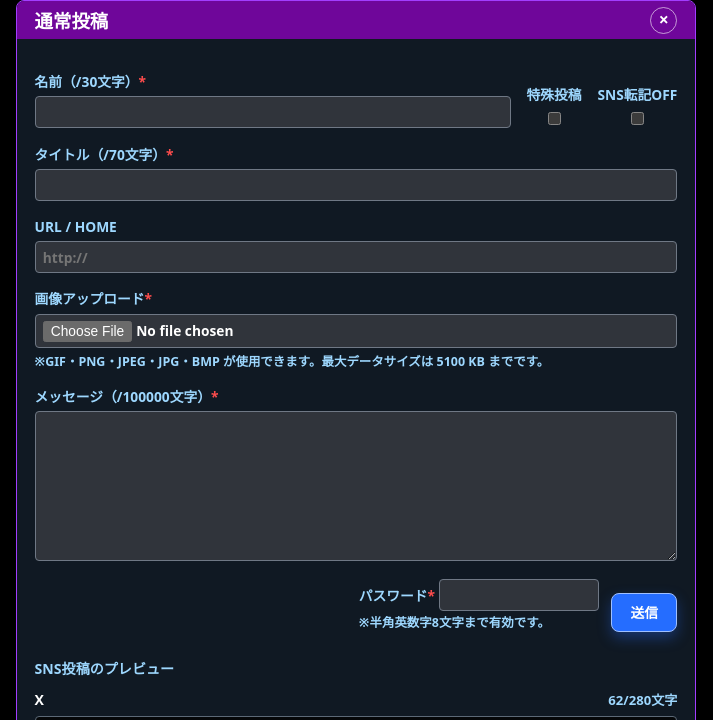
PostFormPage › does not change frame styling when SNS transfer is off
Click the checkbox labelled "SNS転記OFF": point(638, 119) [632,112,644,125]
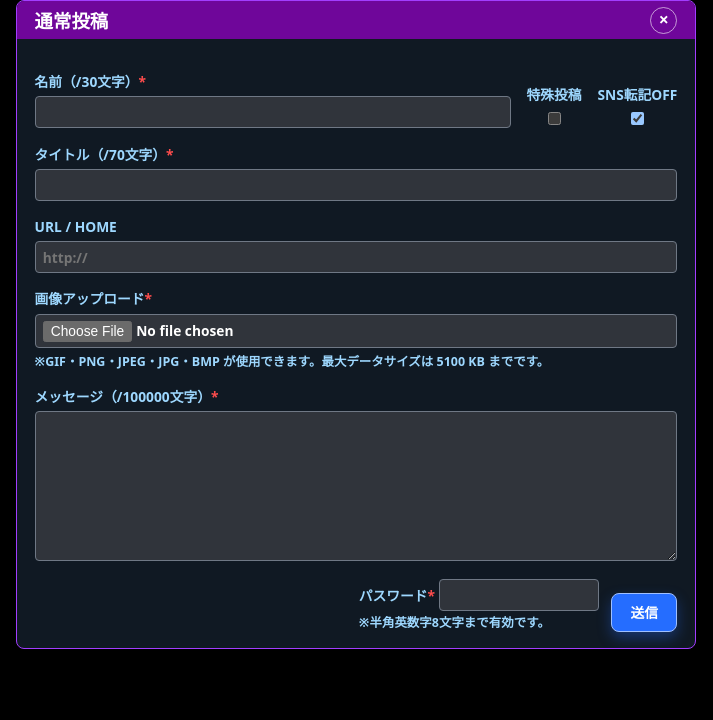
Expected: the heading labelled "SNS投稿のプレビュー" is gone
